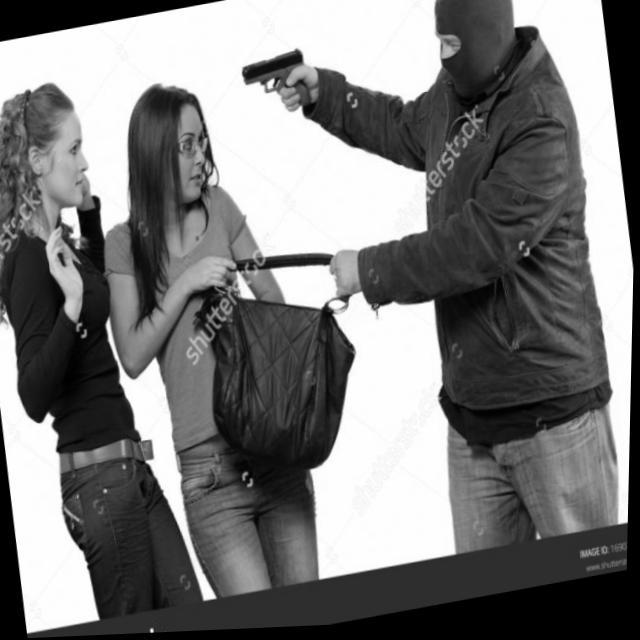weapon: (239, 49, 313, 120)
